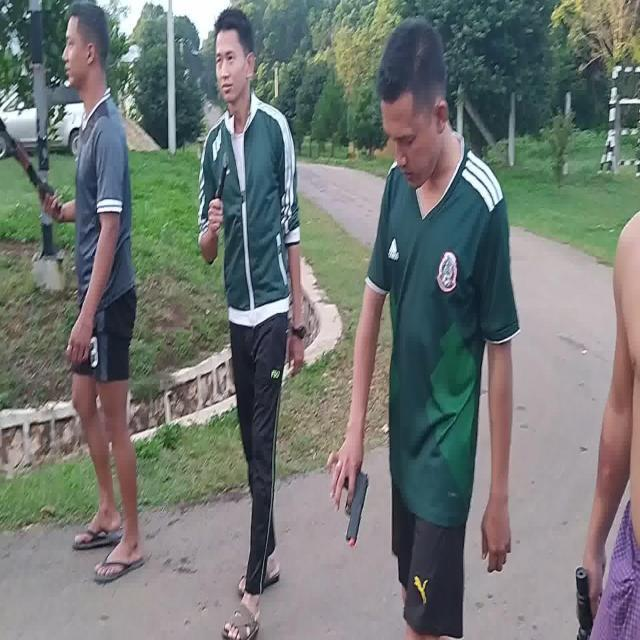gun: (1, 122, 63, 214), (343, 470, 371, 538)
